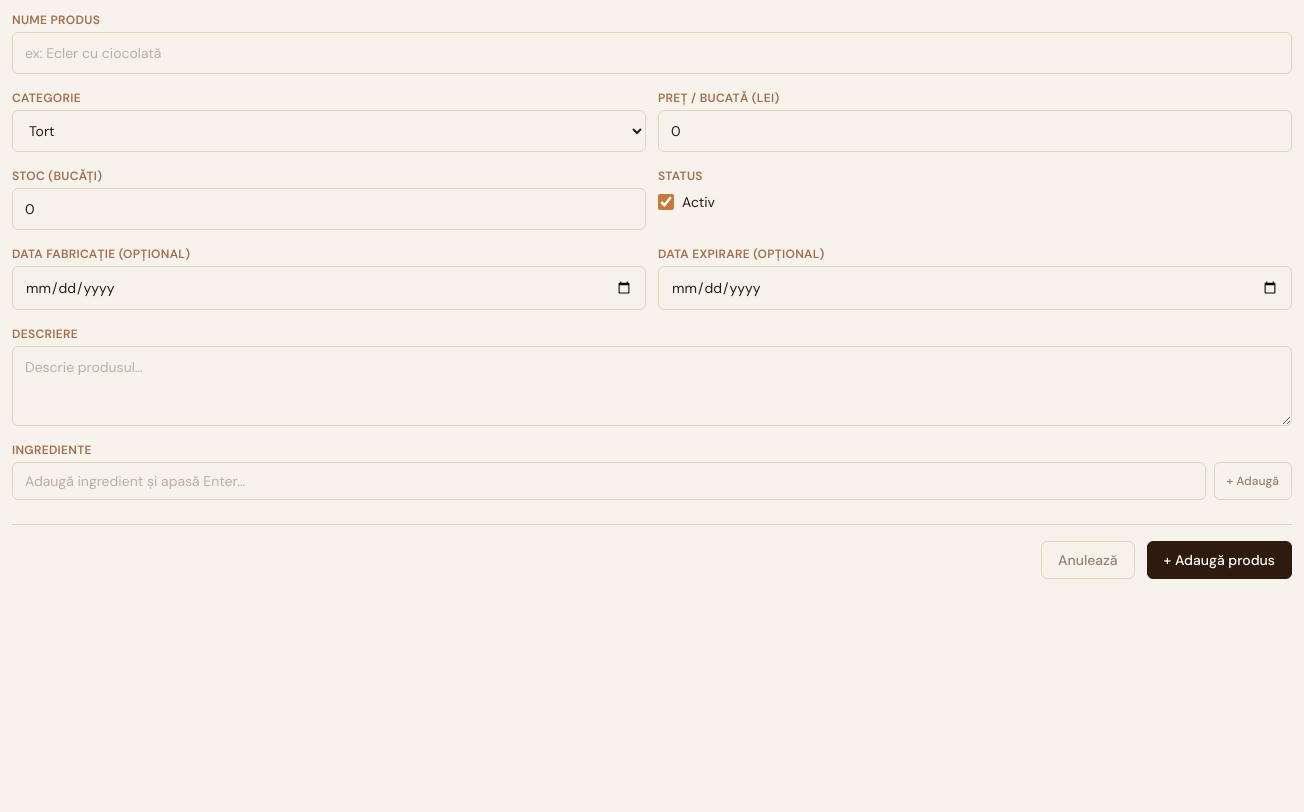
Test: ProductForm — ingredients › adds an ingredient when Enter is pressed
In the field with test id "ingredient-input": (609, 481) [12,462,1206,500], type "Făină"
Then press Enter
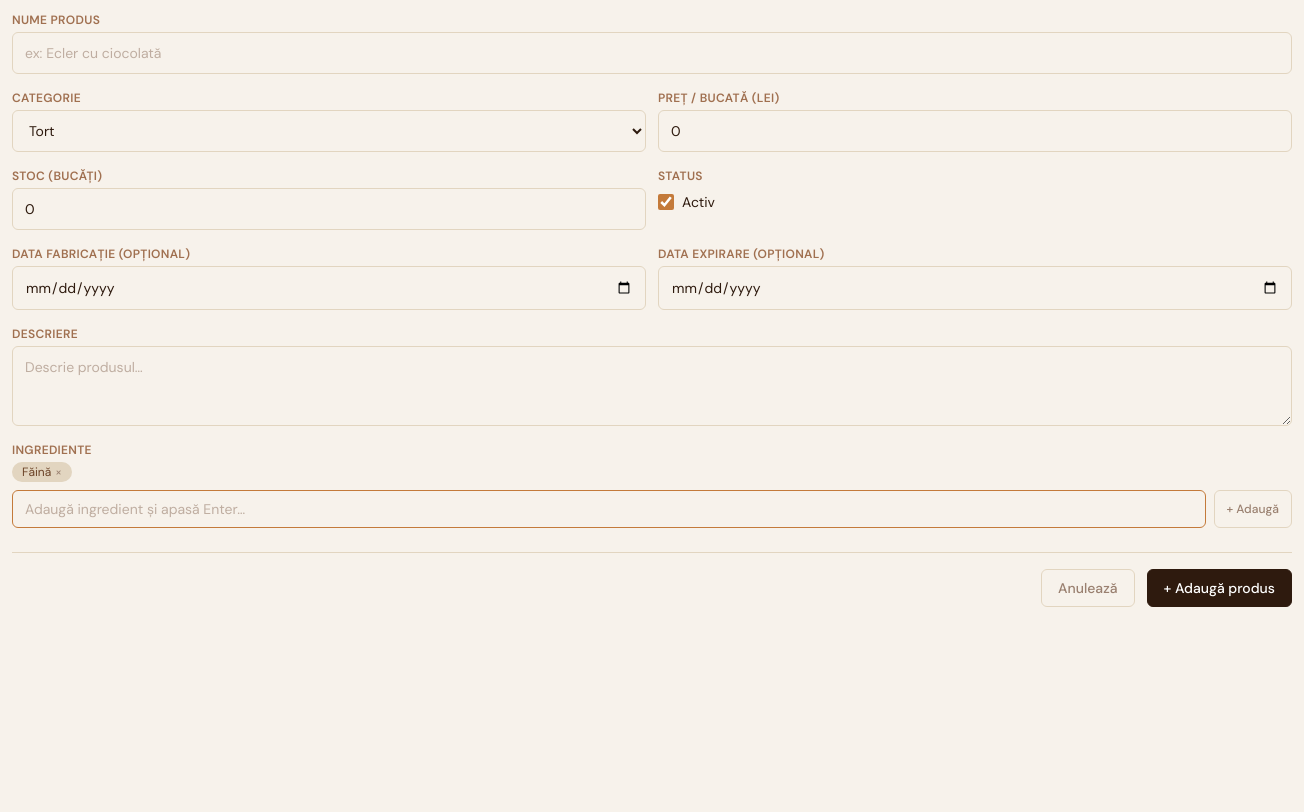
Check: the text "Făină" is shown, box [22,464,51,480]
